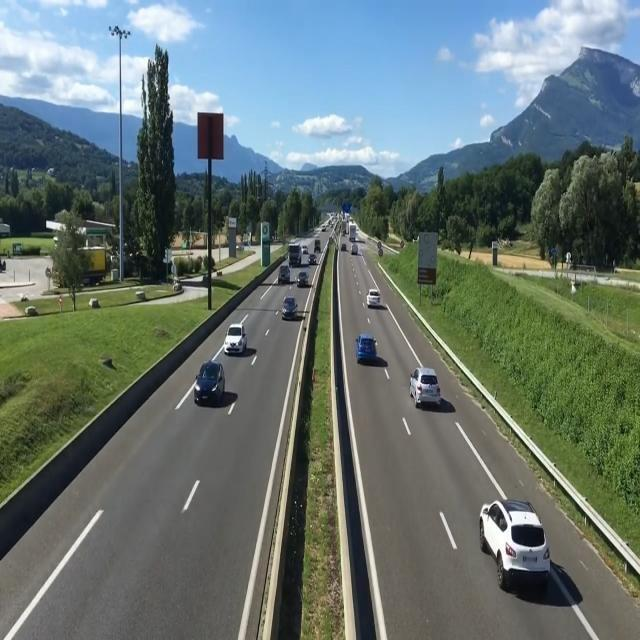Bus: (284, 241, 305, 272)
Car: (477, 493, 552, 570), (408, 363, 444, 409), (192, 364, 226, 406), (219, 321, 248, 359), (355, 330, 382, 364), (362, 287, 384, 311), (280, 296, 302, 320), (292, 269, 316, 288), (277, 261, 290, 283), (306, 250, 320, 265)
